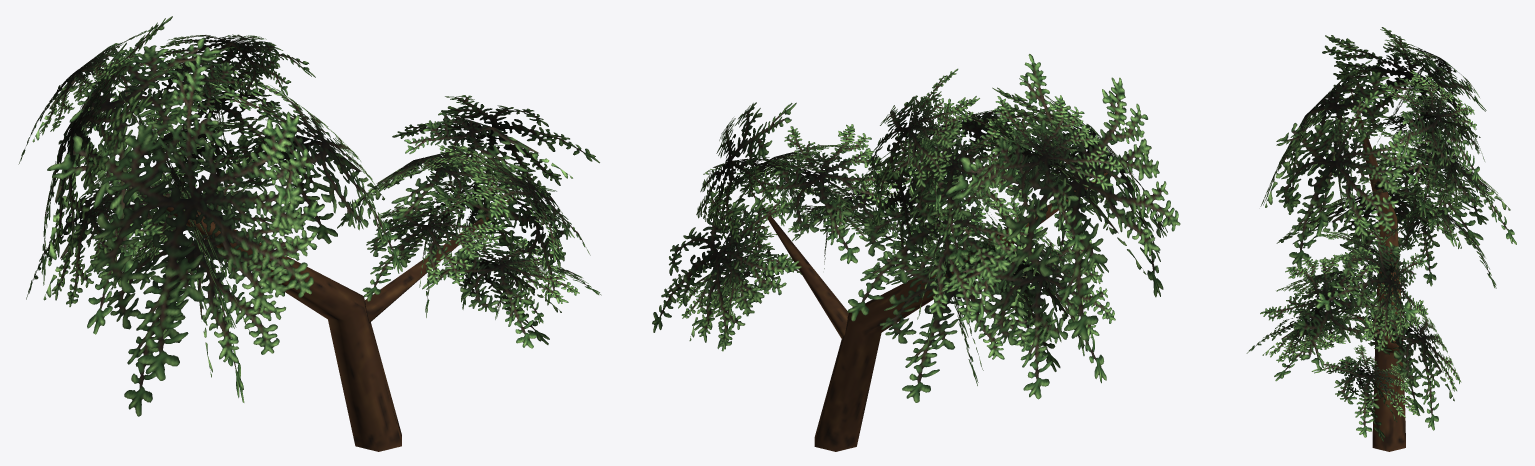
The model's file is Tree_01_Low.fbx.
3 renders of one model, left to right at view 1: azimuth 30°, elevation 25°; view 2: azimuth 150°, elevation 25°; view 3: azimuth 270°, elevation 25°, orthographic. The views are drawn at different scales.
Visible parts, largest first — view 1: polySurface106; view 2: polySurface106; view 3: polySurface106.
Boxes of the visible parts, x1=… form: polySurface106: x1=18, y1=16, x2=601, y2=451; polySurface106: x1=652, y1=54, x2=1180, y2=451; polySurface106: x1=1246, y1=27, x2=1516, y2=451.
Size of the model in its own units: 6.73 by 5.73 by 4.08.
Materials: 1 (1 with a texture image).
